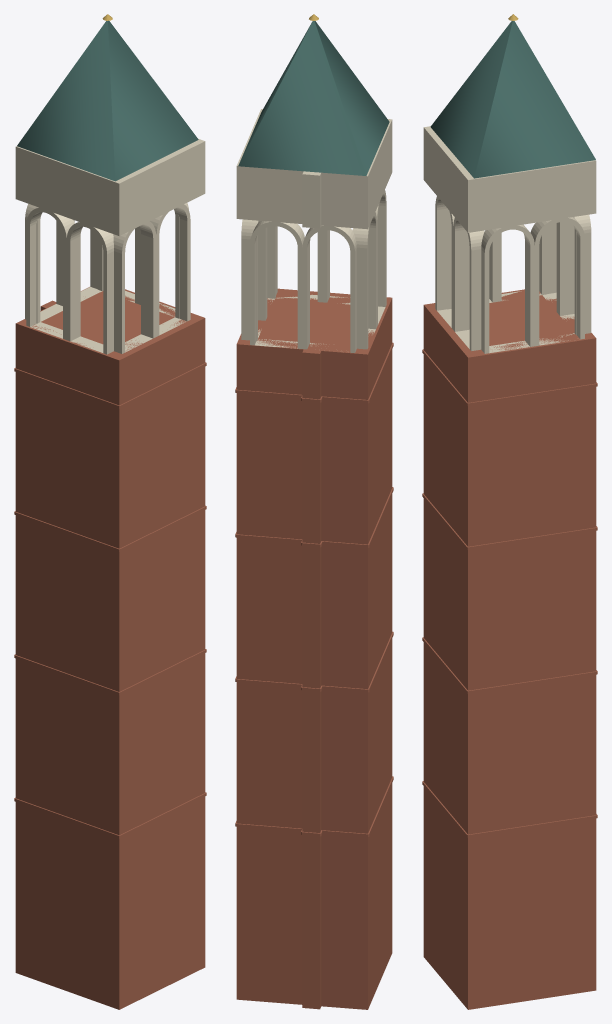
File: st-mark-campanile.glb
The picture shows the model from 3 angles, left to right: view 1: azimuth 30°, elevation 25°; view 2: azimuth 150°, elevation 25°; view 3: azimuth 270°, elevation 25°; orthographic projection.
Parts seen in each view (by area): view 1: tower, tower-pyramidal-spire, tower-belfry, tower-attic, tower-shaft-band; view 2: tower, tower-pyramidal-spire, tower-belfry, tower-attic, tower-shaft-band; view 3: tower, tower-belfry, tower-pyramidal-spire, tower-attic, tower-shaft-band.
Part boxes in pixels (box(x1,y1,x2,y2)): tower: box(15, 287, 205, 1009); tower-pyramidal-spire: box(17, 20, 198, 181); tower-belfry: box(25, 203, 190, 354); tower-attic: box(15, 138, 205, 235); tower-shaft-band: box(14, 362, 206, 838); tower: box(236, 288, 392, 1009); tower-pyramidal-spire: box(238, 21, 389, 175); tower-belfry: box(241, 190, 386, 352); tower-attic: box(236, 109, 392, 229); tower-shaft-band: box(235, 342, 393, 836); tower: box(423, 289, 596, 1009); tower-belfry: box(435, 196, 591, 353); tower-pyramidal-spire: box(430, 21, 595, 178); tower-attic: box(423, 126, 596, 232); tower-shaft-band: box(422, 349, 597, 837).
Size of the model in its own units: 15.89 by 96.58 by 16.
